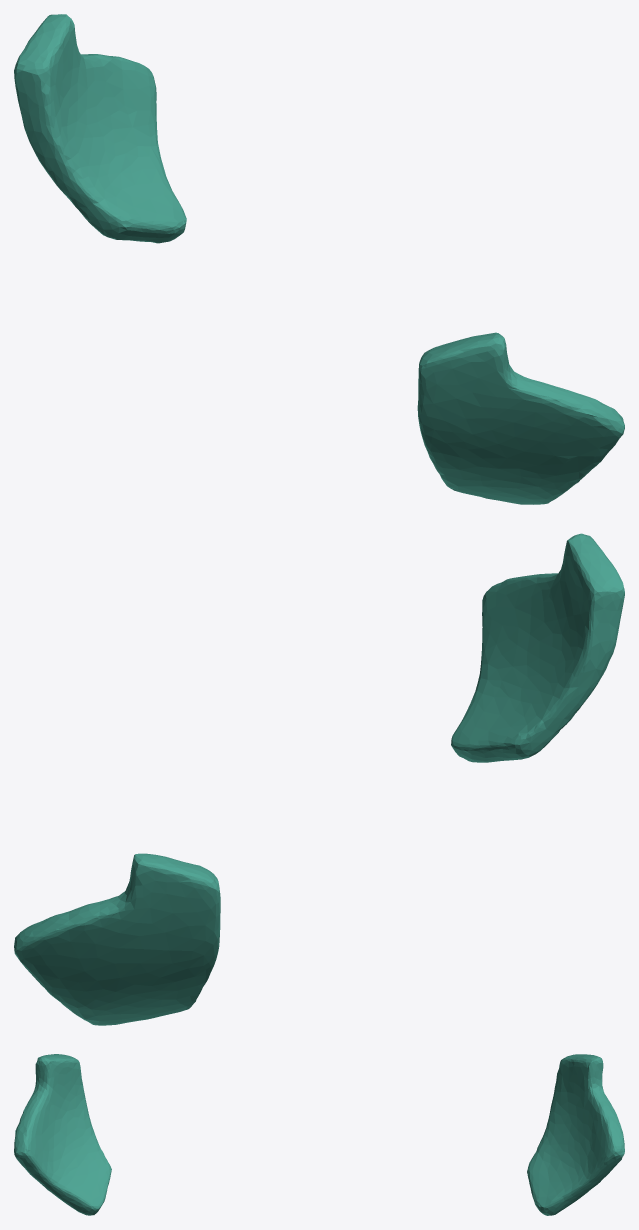
3 renders of one model, top to bottom at view 1: azimuth 30°, elevation 25°; view 2: azimuth 150°, elevation 25°; view 3: azimuth 270°, elevation 25°, orthographic. The views are drawn at different scales.
Visible parts, largest first — view 1: 974.obj; view 2: 974.obj; view 3: 974.obj.
Boxes of the visible parts, box(x1,y1,x2,y2) form: 974.obj: box(14, 14, 624, 504); 974.obj: box(14, 533, 624, 1025); 974.obj: box(14, 1054, 624, 1215).
Size of the model in its own units: 1604 by 1915 by 7856.
